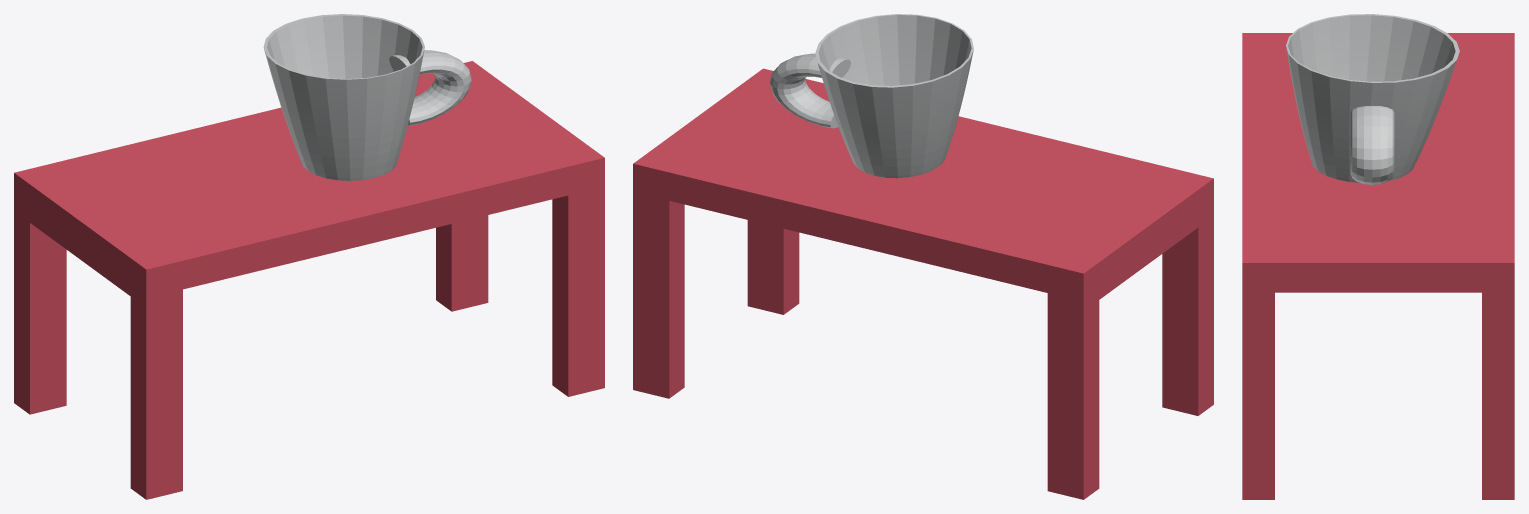
The model's file is Glorious Allis.glb.
3 renders of one model, left to right at view 1: azimuth 30°, elevation 25°; view 2: azimuth 150°, elevation 25°; view 3: azimuth 270°, elevation 25°, orthographic. The views are drawn at different scales.
Parts seen in each view (by area): view 1: Mesh_Mesh_head_geo.001_lambert2SG.001; view 2: Mesh_Mesh_head_geo.001_lambert2SG.001; view 3: Mesh_Mesh_head_geo.001_lambert2SG.001.
Part boxes in pixels (x1=…): Mesh_Mesh_head_geo.001_lambert2SG.001: x1=14, y1=14, x2=604, y2=499; Mesh_Mesh_head_geo.001_lambert2SG.001: x1=633, y1=14, x2=1213, y2=499; Mesh_Mesh_head_geo.001_lambert2SG.001: x1=1242, y1=14, x2=1514, y2=499.
Size of the model in its own units: 50 by 36 by 25.
